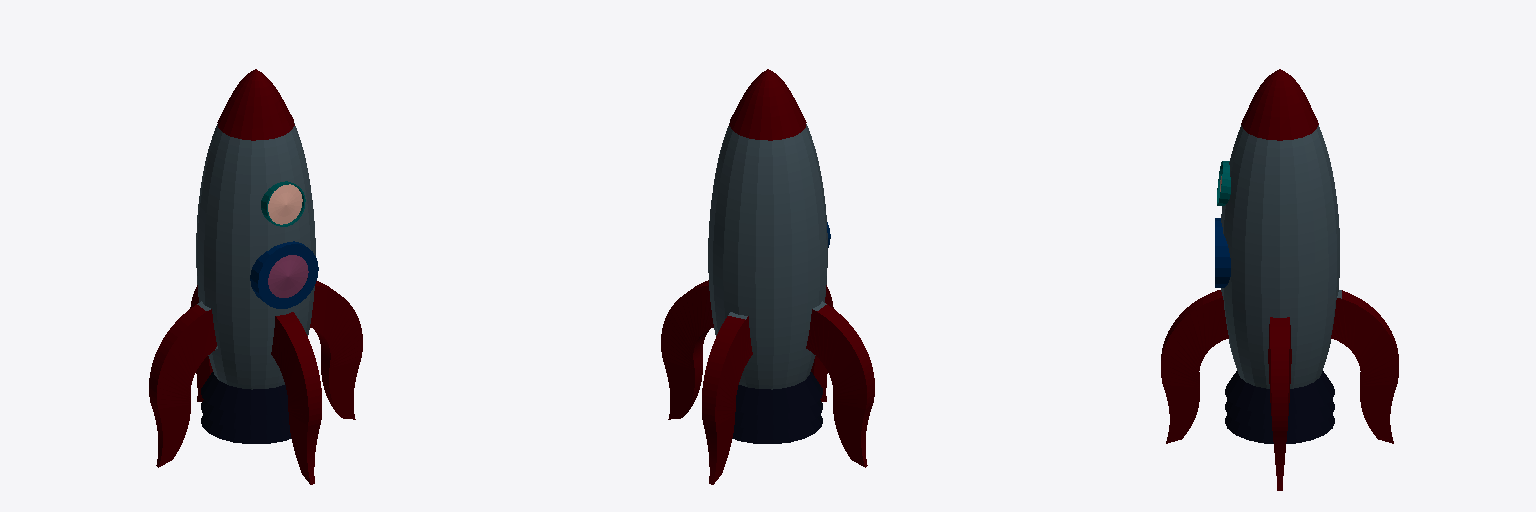
Rendered from rocket.obj.
3 renders of one model, left to right at view 1: azimuth 30°, elevation 25°; view 2: azimuth 150°, elevation 25°; view 3: azimuth 270°, elevation 25°, orthographic.
Visible parts, largest first — view 1: _28, _59, _55, _63, _47, _15, _32, _1, _53, default, _34, _13 (+1 smaller); view 2: _28, _51, _67, _47, _75, _15, _32, _73, _53, _69; view 3: _28, _61, _71, _47, _15, _65, _32, _1.
Boxes of the visible parts, <box> form: _28: <box>196,123,315,389</box>; _59: <box>271,312,321,484</box>; _55: <box>157,309,216,466</box>; _63: <box>310,285,362,419</box>; _47: <box>217,72,294,139</box>; _15: <box>201,400,291,443</box>; _32: <box>201,372,287,414</box>; _1: <box>250,241,318,308</box>; _53: <box>149,304,206,467</box>; default: <box>268,255,308,297</box>; _34: <box>268,184,302,224</box>; _13: <box>273,260,300,290</box>; _28: <box>708,123,827,389</box>; _51: <box>806,309,866,466</box>; _67: <box>661,285,713,419</box>; _47: <box>729,72,806,139</box>; _75: <box>713,316,752,484</box>; _15: <box>732,400,822,443</box>; _32: <box>736,372,822,414</box>; _73: <box>702,316,744,484</box>; _53: <box>817,304,874,467</box>; _69: <box>682,329,709,417</box>; _28: <box>1221,125,1339,388</box>; _61: <box>1161,298,1228,443</box>; _71: <box>1331,298,1398,443</box>; _47: <box>1241,73,1318,139</box>; _15: <box>1225,399,1334,443</box>; _65: <box>1270,317,1289,490</box>; _32: <box>1225,371,1334,414</box>; _1: <box>1215,218,1230,287</box>.
Size of the model in its own units: 3.96 by 6.85 by 3.96.